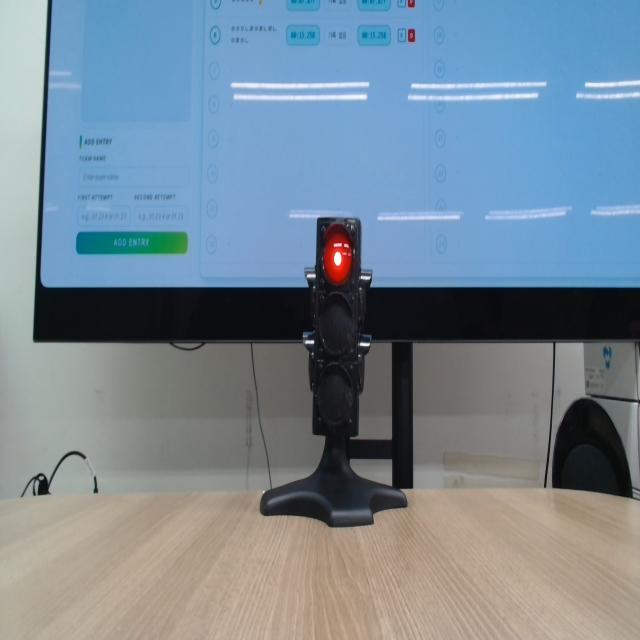red_light: (323, 225, 352, 285)
